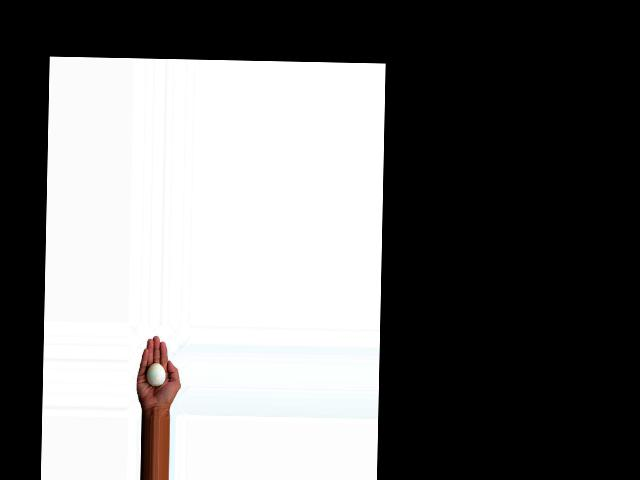egg: (146, 362, 165, 386)
